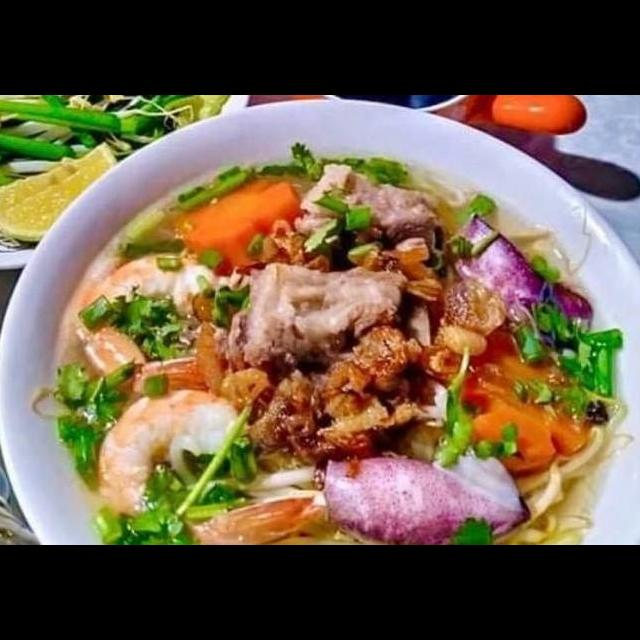muc: (440, 207, 600, 356), (309, 444, 537, 545)
thit heo: (221, 256, 413, 383), (289, 156, 451, 267)
tom: (87, 381, 318, 545), (64, 244, 240, 401)
